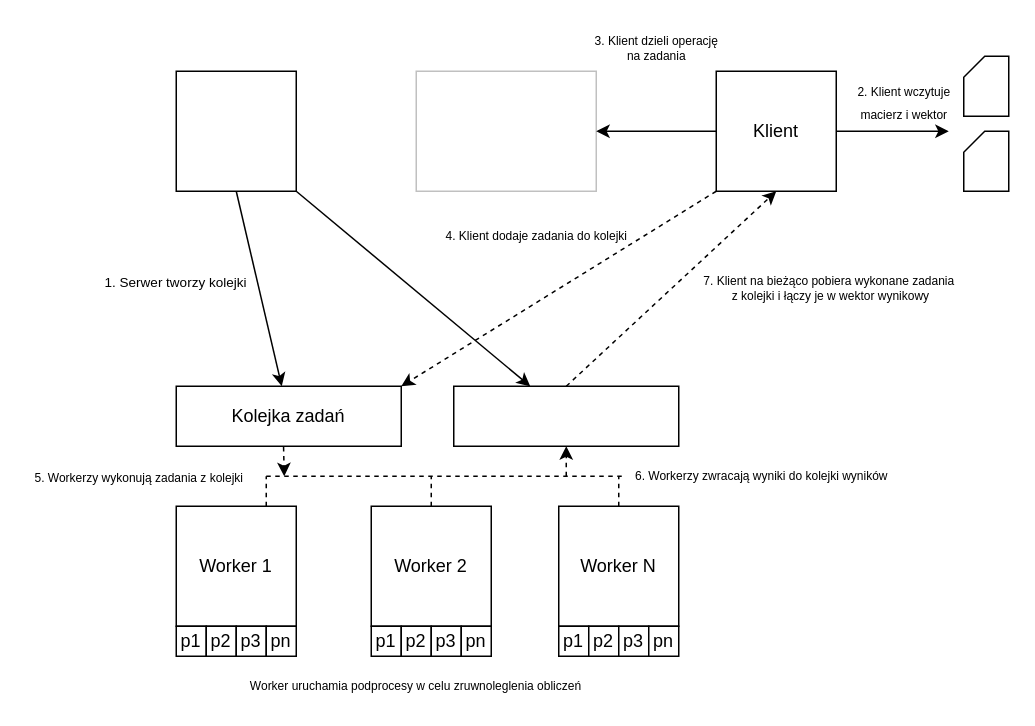
This 1035x726 diagram has some shape labels left out. The box of each missing label's shape, as (x1, y1, x2, y2) in pixels:
A.dat: (962, 55, 1009, 116)
Kolejka wyników: (452, 385, 679, 446)
Serwer: (175, 70, 296, 191)
Task 1 Task 2 Task 3 Task 4 Task 5 Task 6 Task 7 Task 8 Task 9: (415, 70, 596, 191)
X.dat: (962, 130, 1009, 191)
